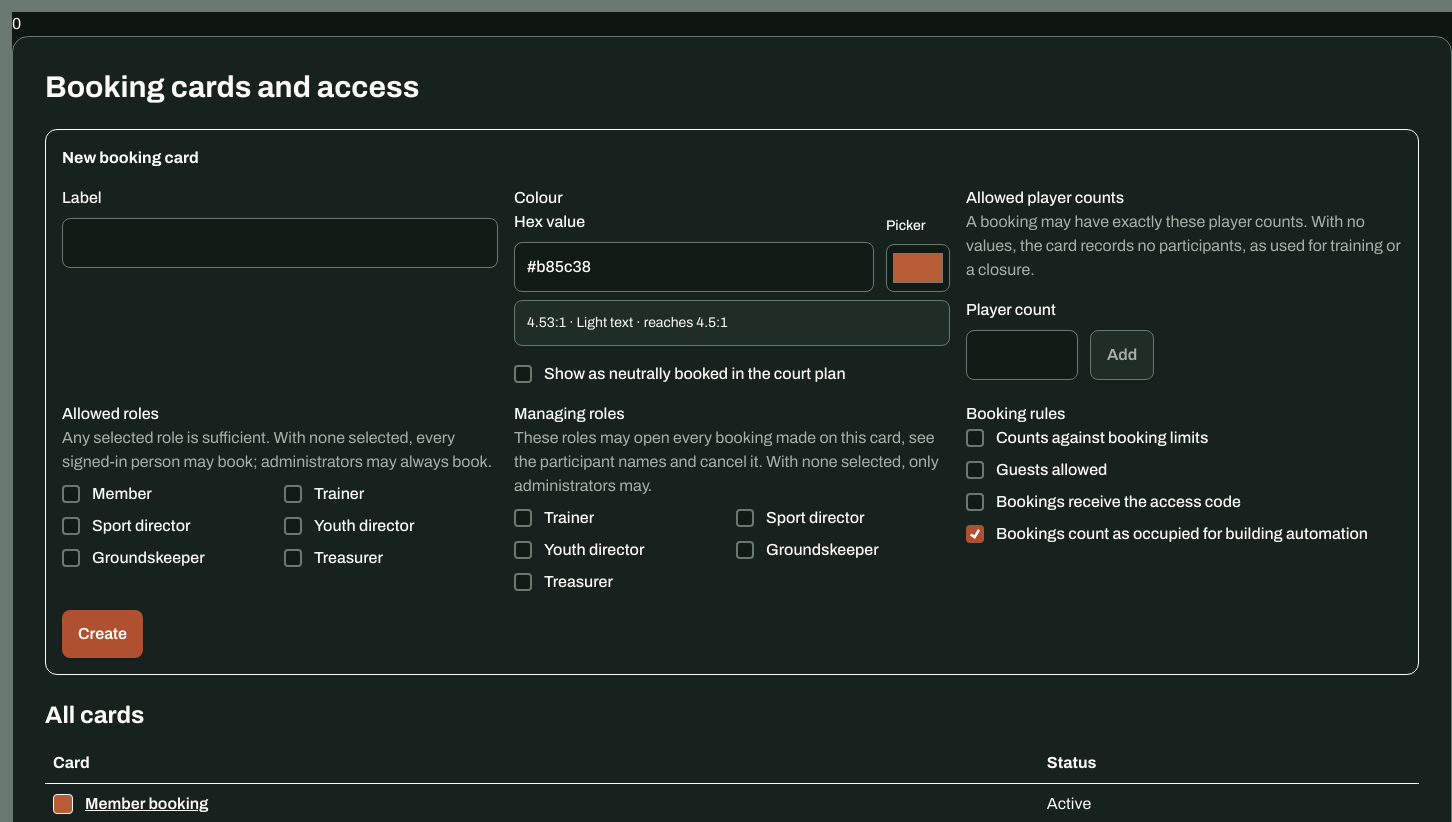
Test: AdminBookingCardsView › given a player count was added, when nothing else is filled in, then the form still has something to lose
Type "2" into the number field with test id "new-card-counts-entry".
click(1022, 355); type("2")  # box [966,330,1078,380]
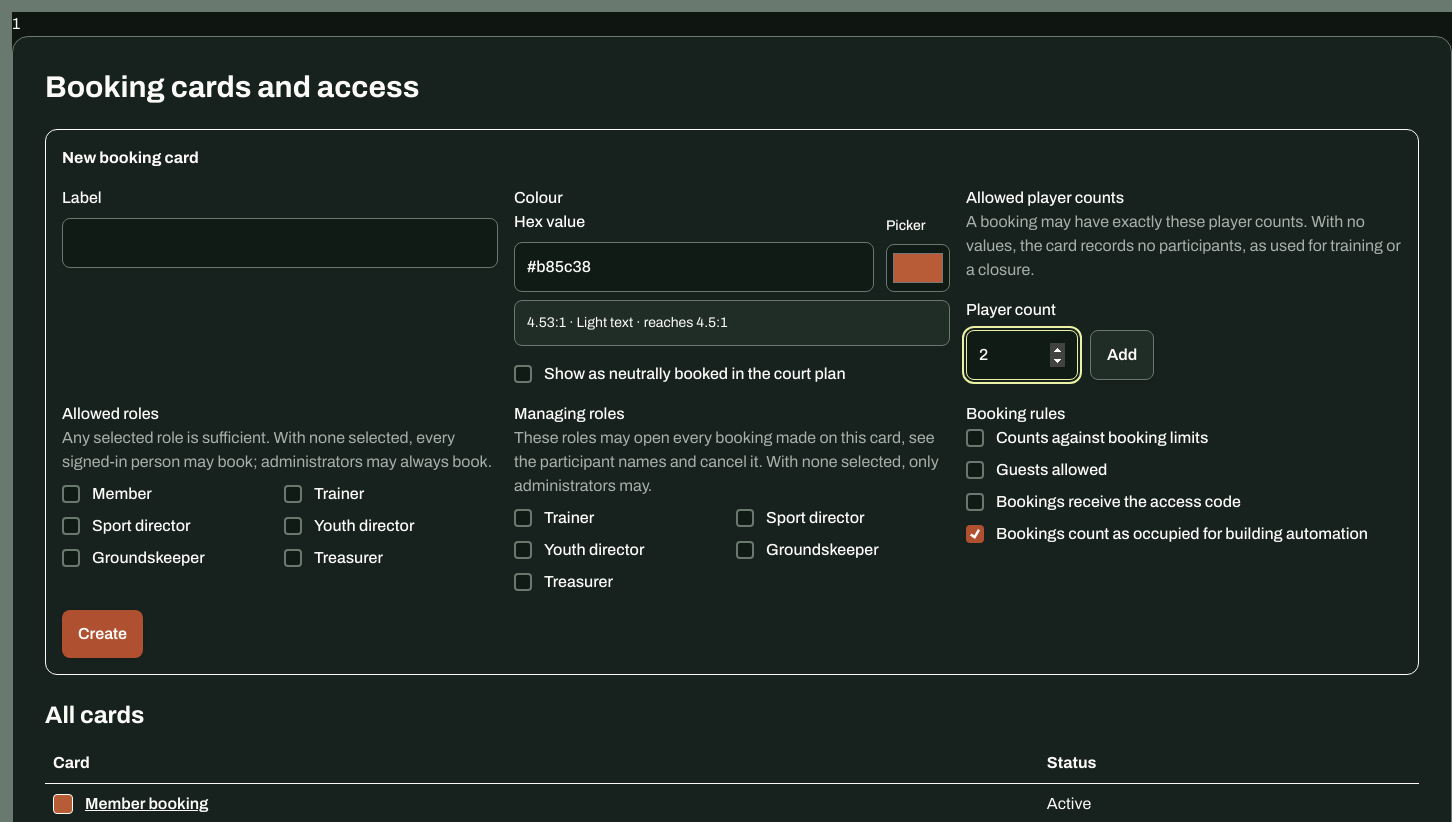
Click the button with test id "new-card-counts-add".
click(1122, 355)  # box [1090,330,1154,380]
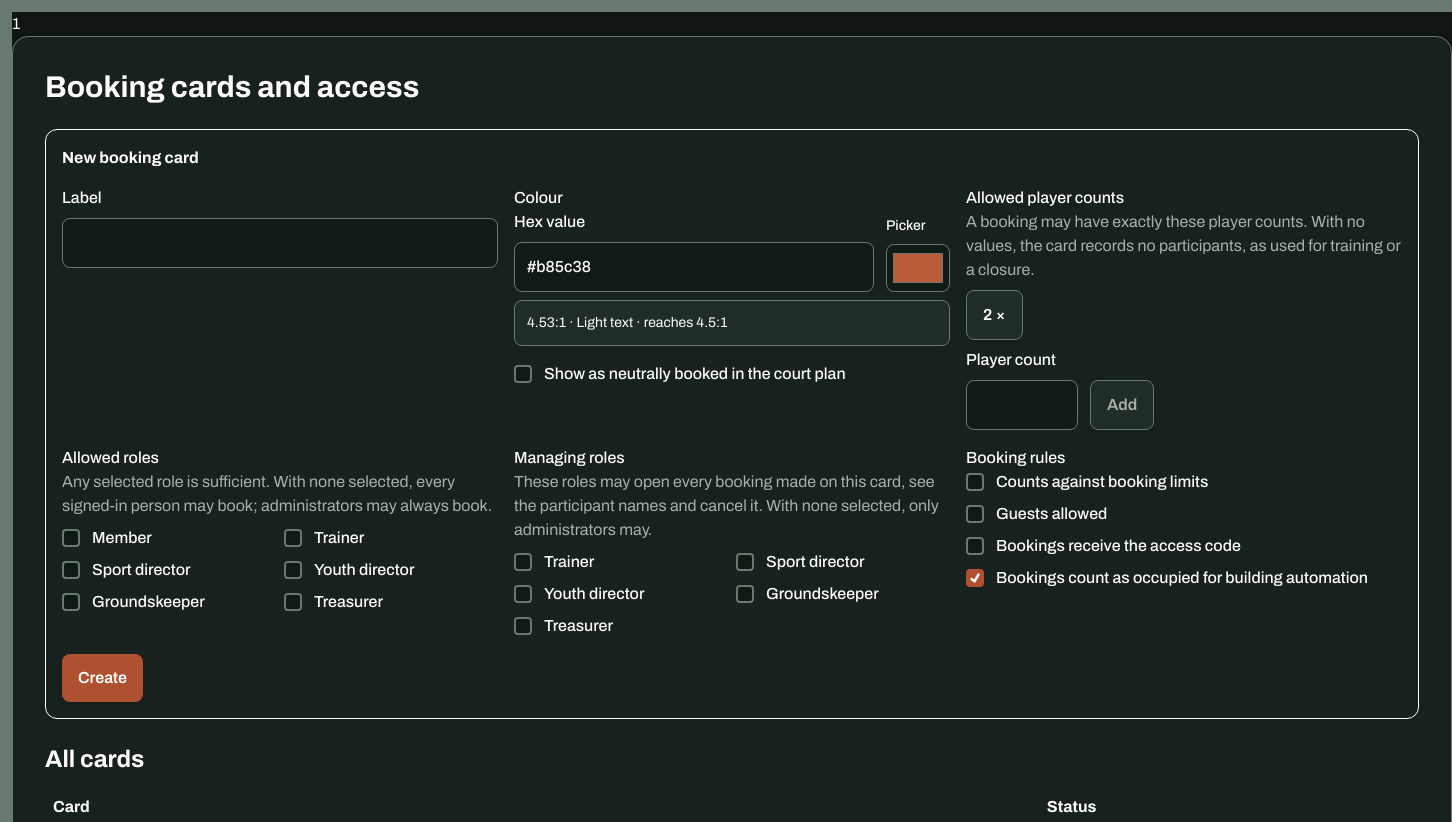
Expected: the text with test id "unsaved-count" reads "1", [12,15,20,32]
Click the button with test id "new-card-counts-remove-2".
click(994, 315)  # box [966,290,1023,340]
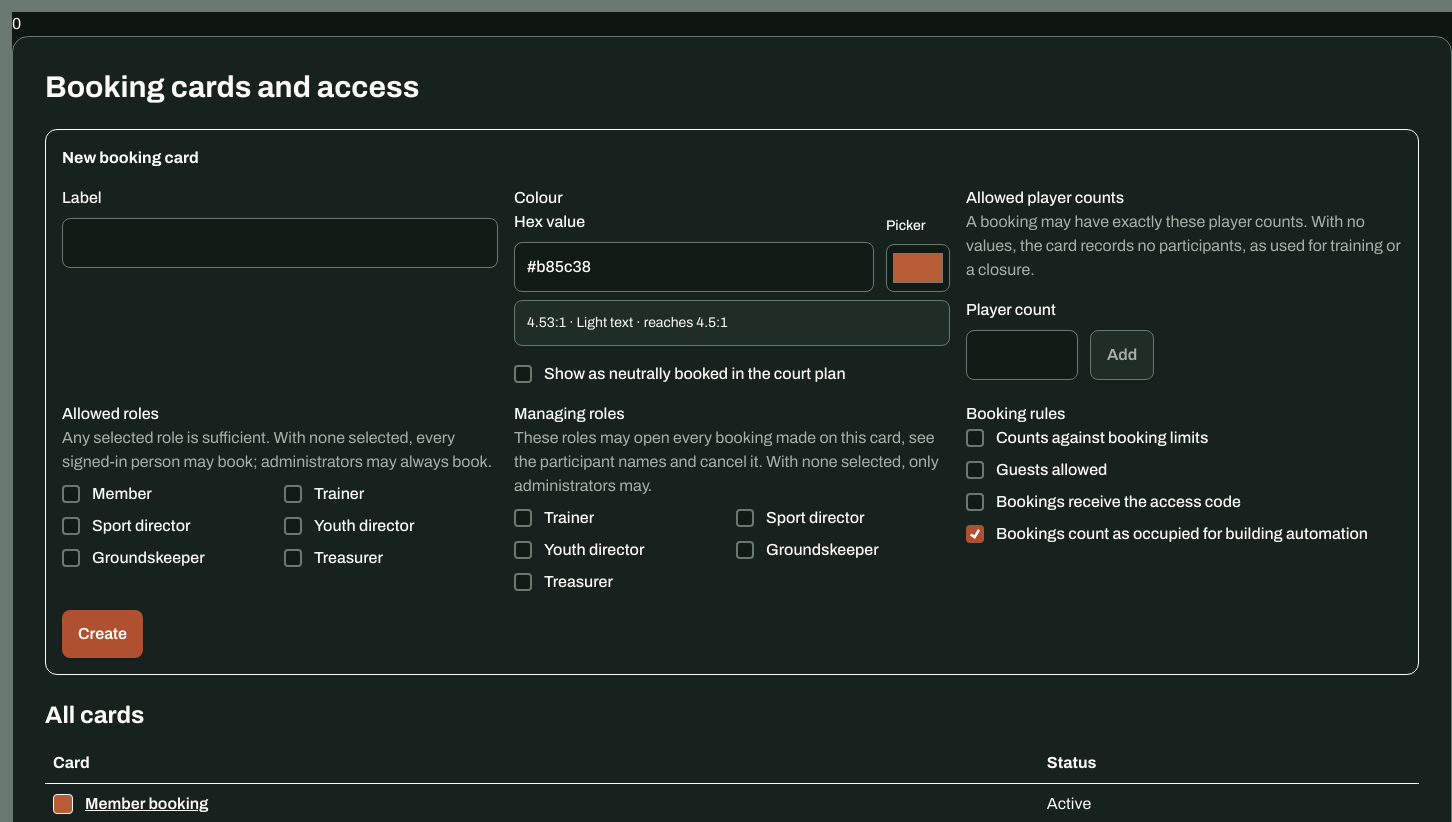
Expected: the text with test id "unsaved-count" reads "0", [12,15,21,32]
